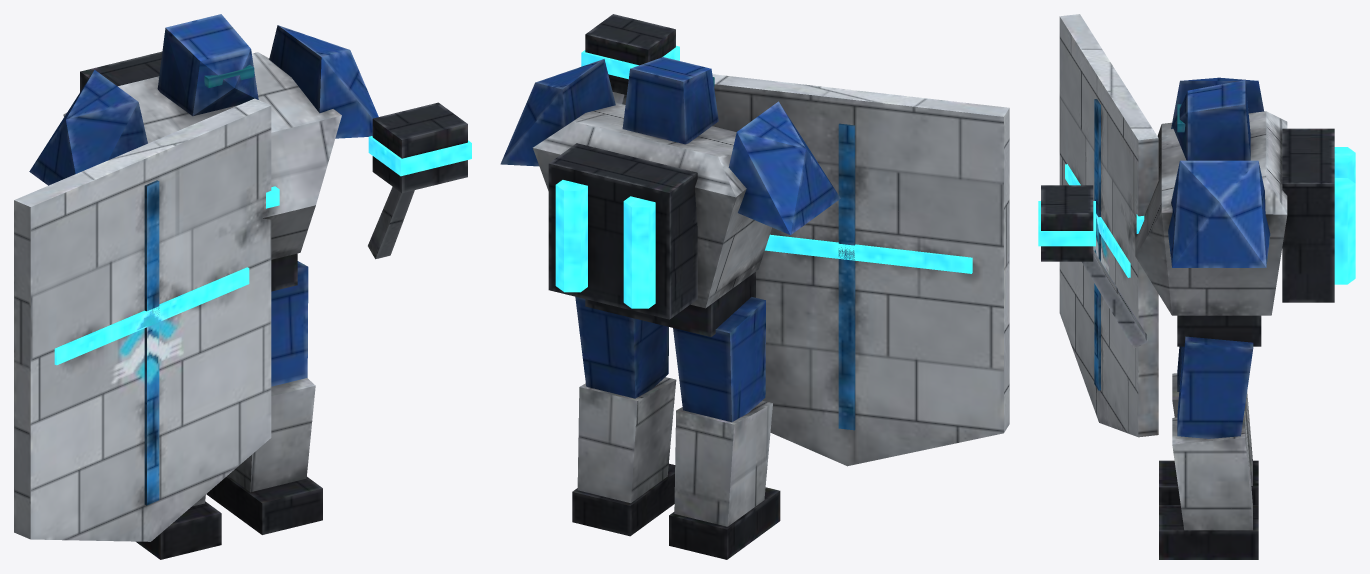
The model's file is u_sentinel2_w.glb.
3 views of the same model, side by side, from view 1: azimuth 30°, elevation 25°; view 2: azimuth 150°, elevation 25°; view 3: azimuth 270°, elevation 25° (orthographic). The views are drawn at different scales.
Visible parts, largest first — view 1: u_sentinel2_w; view 2: u_sentinel2_w; view 3: u_sentinel2_w.
Part boxes in pixels (x1,y1,x2,y2): u_sentinel2_w: [14, 14, 471, 559]; u_sentinel2_w: [500, 14, 1009, 559]; u_sentinel2_w: [1038, 14, 1355, 559].
Bounding box in the file's own units: 2.11 × 2.24 × 1.49.
1 material, 1 textured.
